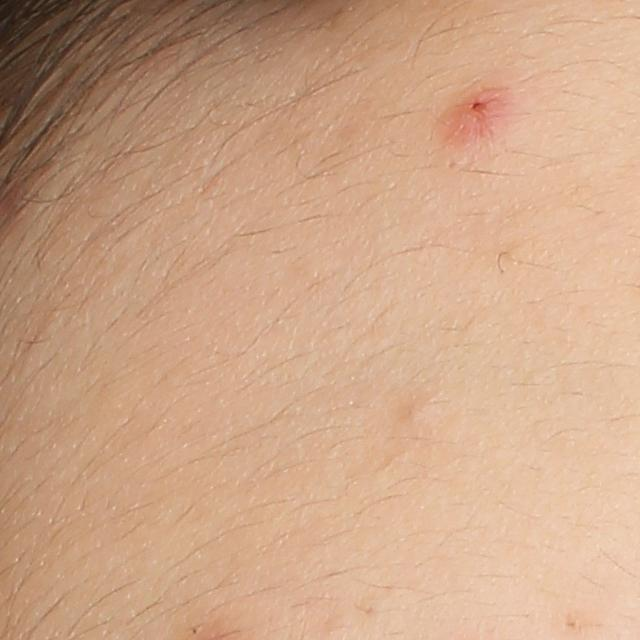comedo: (400, 399, 430, 427)
papule: (453, 89, 503, 130)
